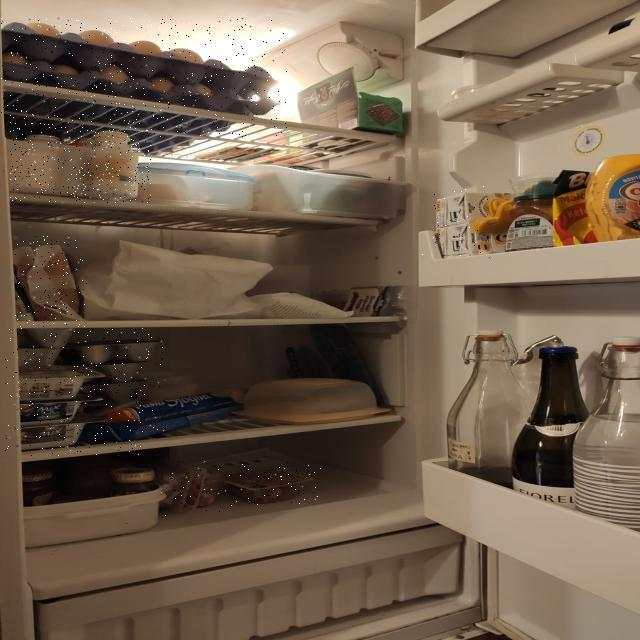bacon: (215, 462, 322, 505), (161, 461, 234, 516)
butter: (422, 186, 494, 258)
cheese: (15, 235, 87, 327)
eggs: (1, 18, 288, 137)
yoghurt: (5, 328, 164, 456), (10, 113, 152, 203)
